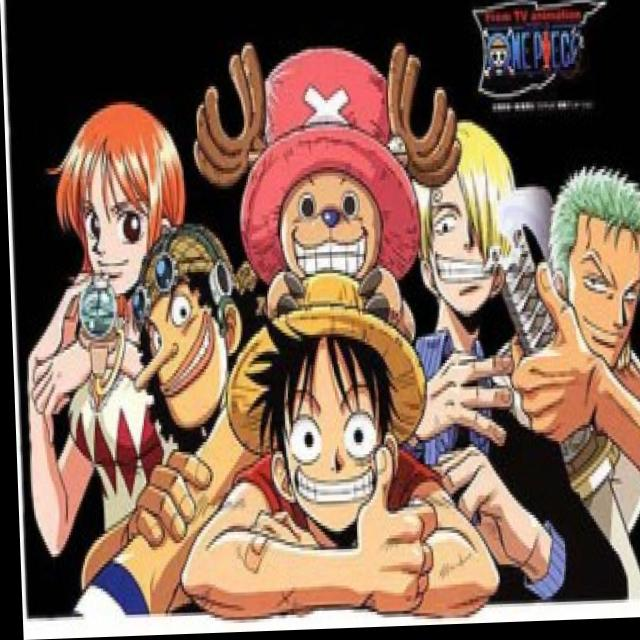Luffy: (219, 274, 429, 530)
Nami: (50, 102, 186, 295)
Sangdi: (406, 115, 525, 329)
Usopp: (196, 22, 424, 286), (121, 197, 240, 448)
Zoro: (537, 167, 640, 376)
